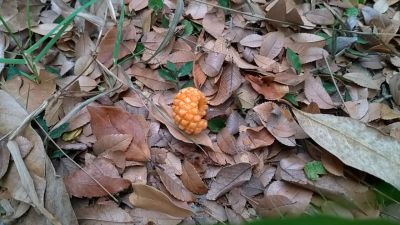eggs: (171, 85, 212, 137)
